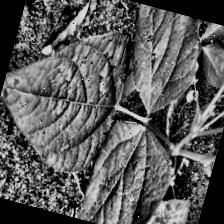ALS: (0, 3, 137, 191), (114, 2, 206, 104), (77, 129, 173, 224)
